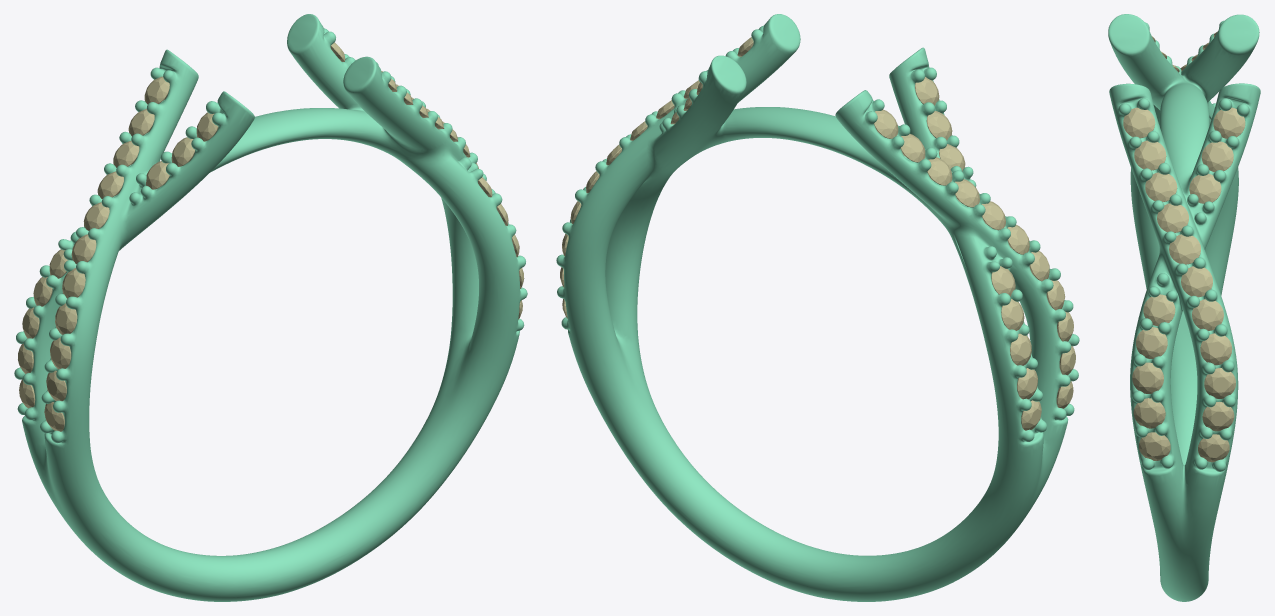
3 renders of one model, left to right at view 1: azimuth 30°, elevation 25°; view 2: azimuth 150°, elevation 25°; view 3: azimuth 270°, elevation 25°, orthographic. The views are drawn at different scales.
Visible parts, largest first — view 1: Metal02; view 2: Metal02; view 3: Metal02, Diamond_Gem.006, Diamond_Gem.002, Diamond_Gem.017, Diamond_Gem.016, Diamond_Gem.007, Diamond_Gem.003, Diamond_Gem.009, Diamond_Gem.008, Diamond_Gem.018, Diamond_Gem.001, Diamond_Gem.010 (+8 smaller).
Boxes of the visible parts, box(x1,y1,x2,y2) form: Metal02: box(14, 14, 527, 601); Metal02: box(556, 14, 1079, 601); Metal02: box(1108, 14, 1260, 601); Diamond_Gem.006: box(1200, 333, 1232, 365); Diamond_Gem.002: box(1132, 362, 1163, 393); Diamond_Gem.017: box(1136, 327, 1167, 358); Diamond_Gem.016: box(1201, 141, 1233, 171); Diamond_Gem.007: box(1192, 299, 1223, 330); Diamond_Gem.003: box(1181, 266, 1212, 297); Diamond_Gem.009: box(1123, 107, 1155, 138); Diamond_Gem.008: box(1169, 234, 1200, 264); Diamond_Gem.018: box(1143, 294, 1175, 326); Diamond_Gem.001: box(1133, 398, 1165, 428); Diamond_Gem.010: box(1134, 140, 1166, 170).
Bounding box in the file's own units: 21.19 × 22.76 × 5.95.
